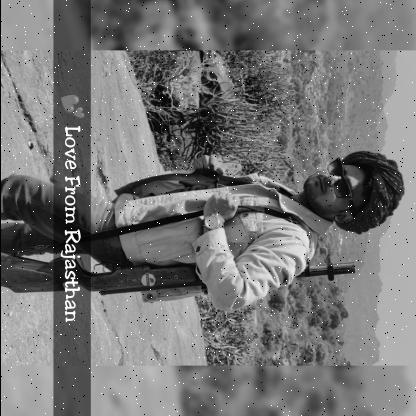rifle: (0, 251, 356, 298)
